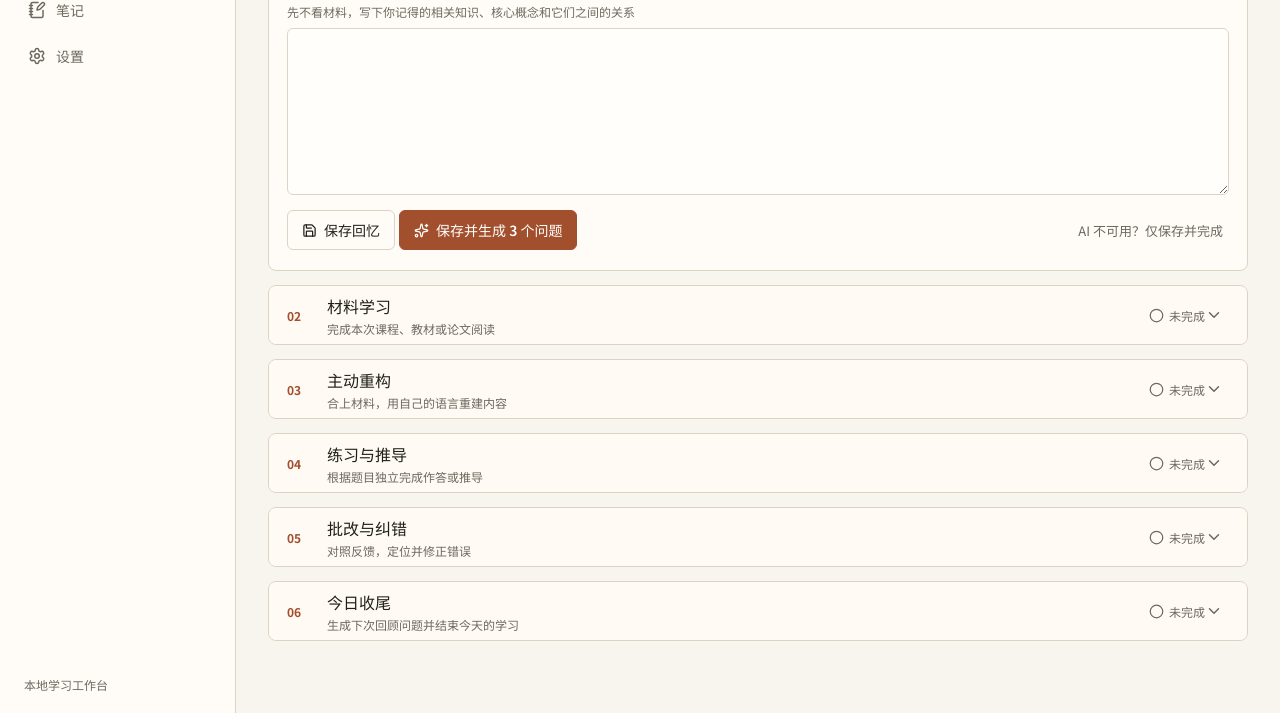
Test: App › saves the current structured answer before moving to the next question
This screenshot has width=1280, height=713.
(page scrolled)
Step 1. Click the button with aria-label "展开练习与推导" → {"x": 367, "y": 454}, box [269,434,1247,492]
(page scrolled)
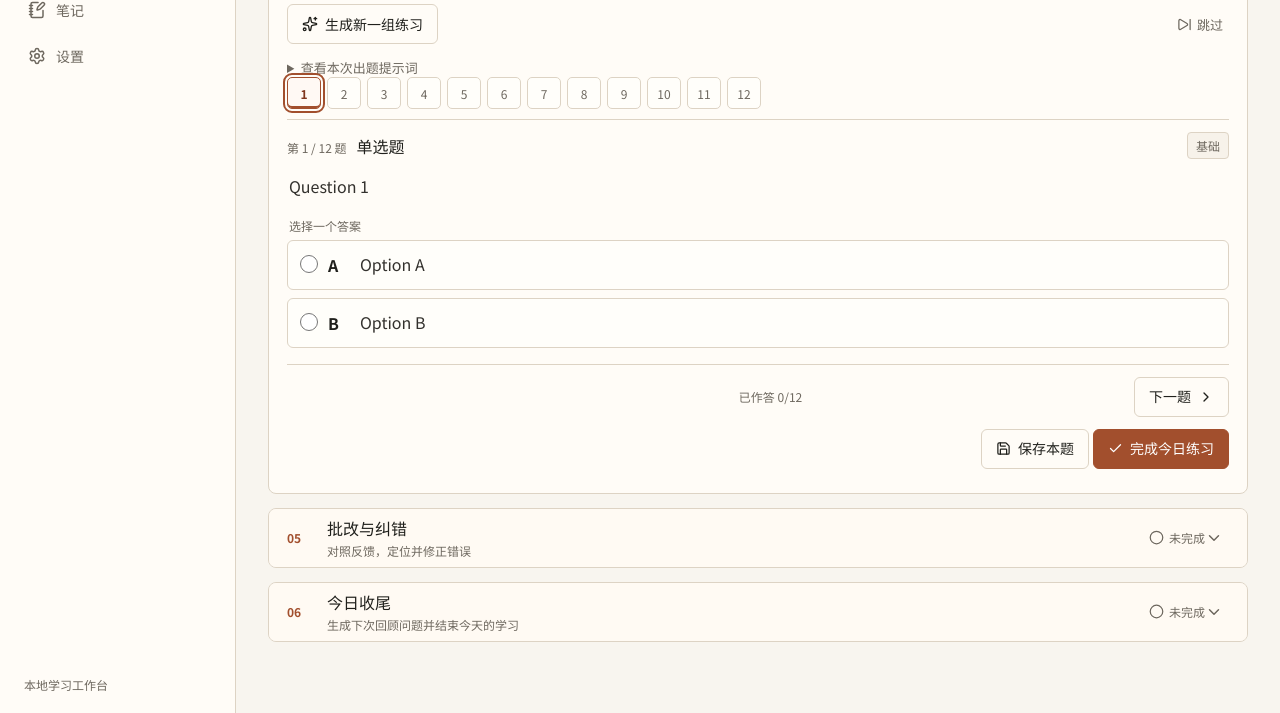
Result: the text "第 1 / 12 题" is shown at [287,139,346,156]
Step 2. Click the radio button labelled "A Option A" → {"x": 309, "y": 264}, box [300,254,318,272]
(page scrolled)
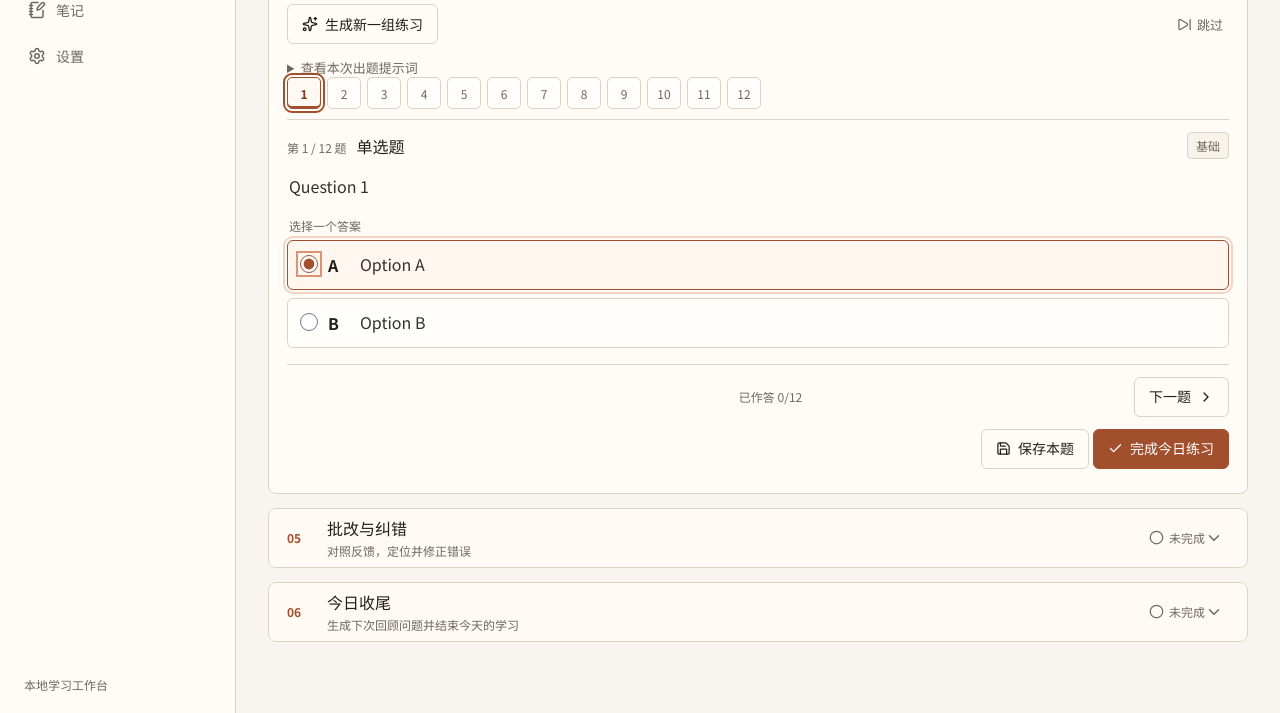
Step 3. Click the button "下一题" → {"x": 1182, "y": 397}, box [1134,377,1229,417]
(page scrolled)
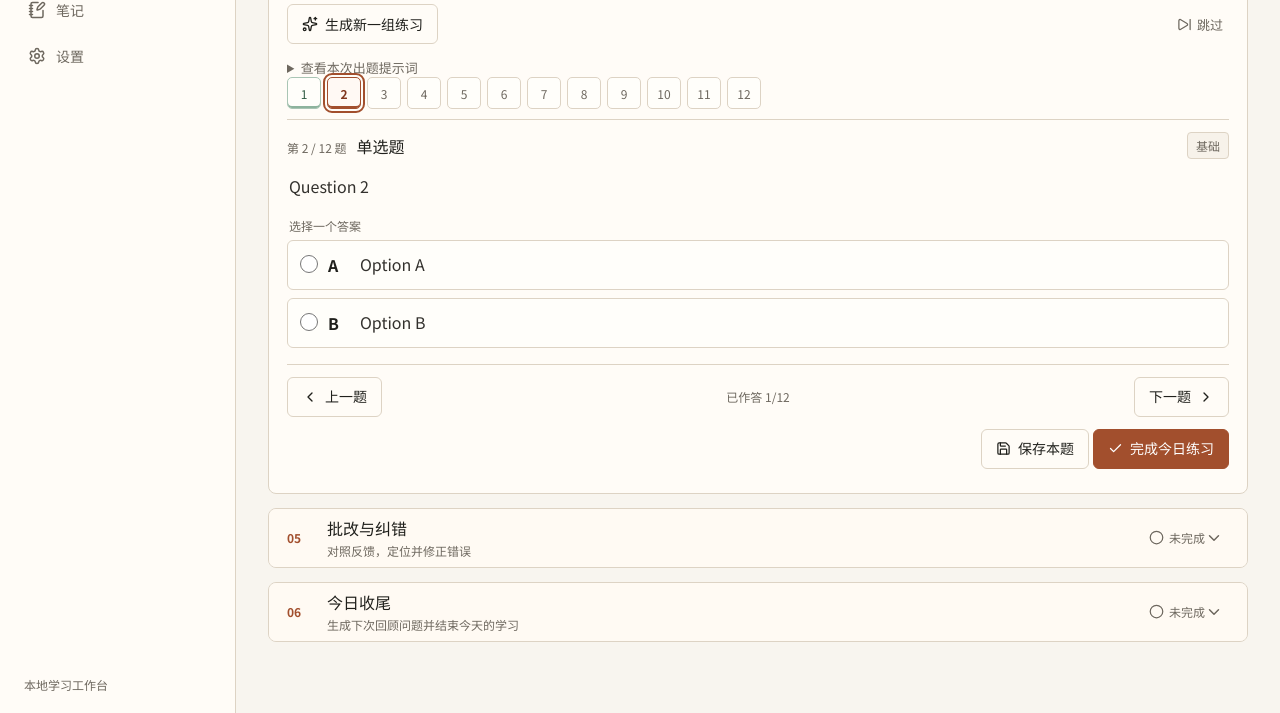
Result: the text "第 2 / 12 题" is shown at [287,139,346,156]
Result: the radio button labelled "A Option A" is not checked at [300,254,318,272]
